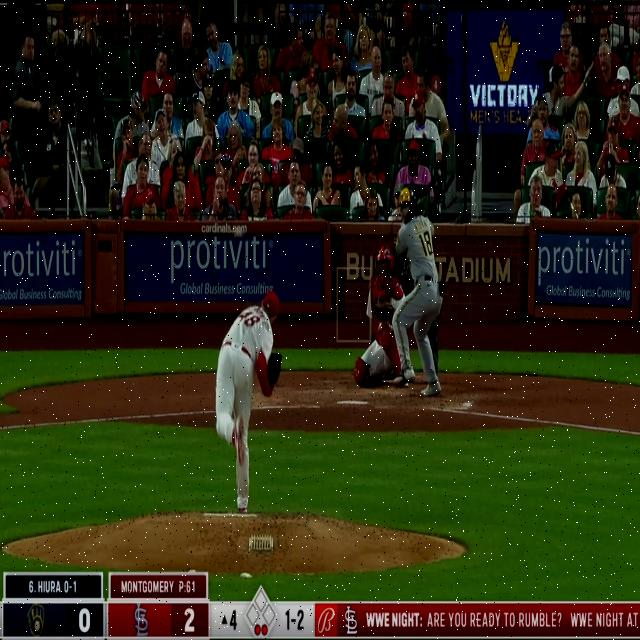baseball: (233, 220, 246, 244)
